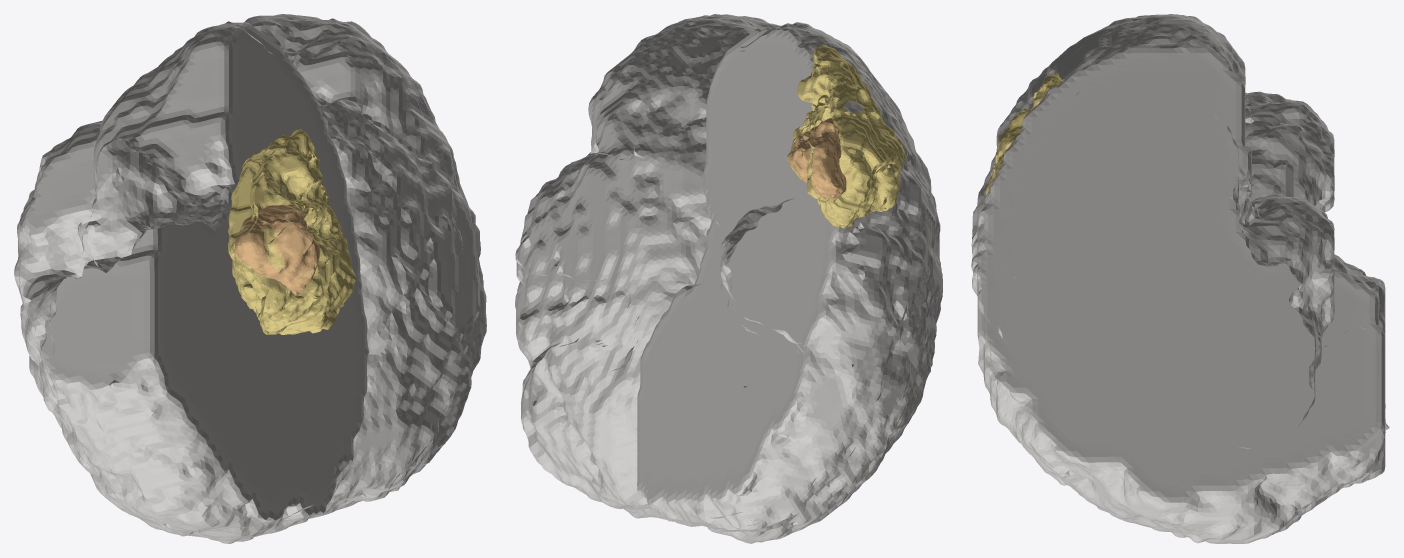
3 views of the same model, side by side, from view 1: azimuth 30°, elevation 25°; view 2: azimuth 150°, elevation 25°; view 3: azimuth 270°, elevation 25° (orthographic). The views are drawn at different scales.
Parts seen in each view (by area): view 1: brain_left, brain_right, edema, core; view 2: brain_left, brain_right, edema, core; view 3: brain_right, brain_left, edema.
Boxes of the visible parts, x1,y1,x2,y2 form: brain_left: [14, 21, 369, 543]; brain_right: [245, 14, 486, 518]; edema: [228, 128, 356, 334]; core: [234, 204, 320, 295]; brain_left: [637, 22, 942, 543]; brain_right: [515, 14, 781, 519]; edema: [787, 44, 906, 228]; core: [788, 118, 846, 199]; brain_right: [971, 41, 1385, 543]; brain_left: [971, 14, 1389, 430]; edema: [985, 72, 1063, 196].
Bounding box in the file's own units: 130 × 166 × 132.
